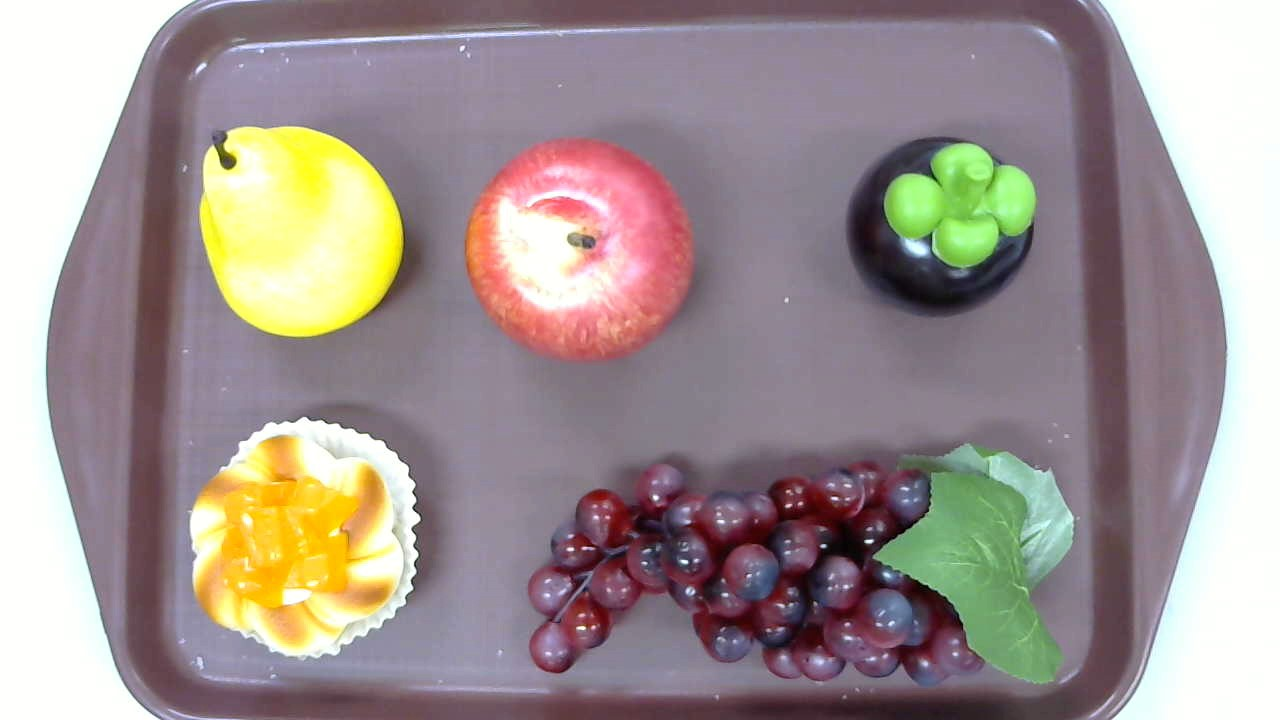grape: (527, 441, 1074, 685)
mango tart: (190, 416, 422, 664)
mangosteen: (847, 137, 1036, 320)
red apple: (464, 136, 694, 367)
yellow pear: (199, 126, 402, 339)
